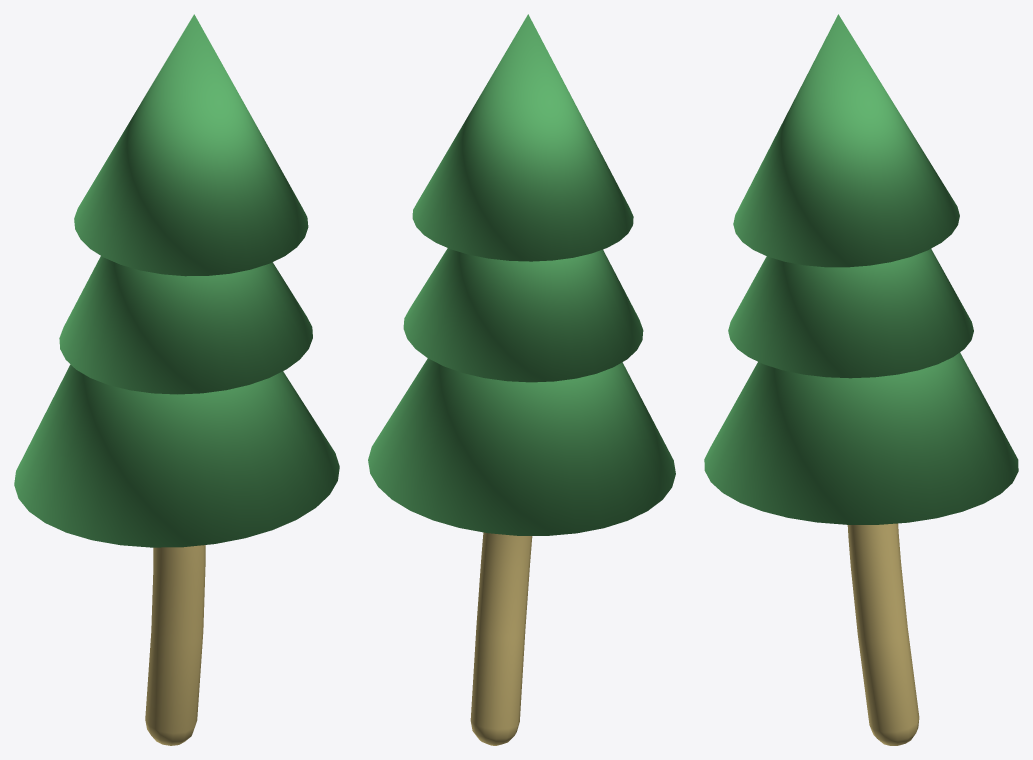
Rendered from tree.fbx.
3 renders of one model, left to right at view 1: azimuth 30°, elevation 25°; view 2: azimuth 150°, elevation 25°; view 3: azimuth 270°, elevation 25°, orthographic. The views are drawn at different scales.
Visible parts, largest first — view 1: tree_; view 2: tree_; view 3: tree_.
Part boxes in pixels (x1,y1,x2,y2): tree_: (14, 14, 339, 745); tree_: (368, 14, 675, 745); tree_: (704, 14, 1018, 745).
Size of the model in its own units: 493 by 1262 by 494.
